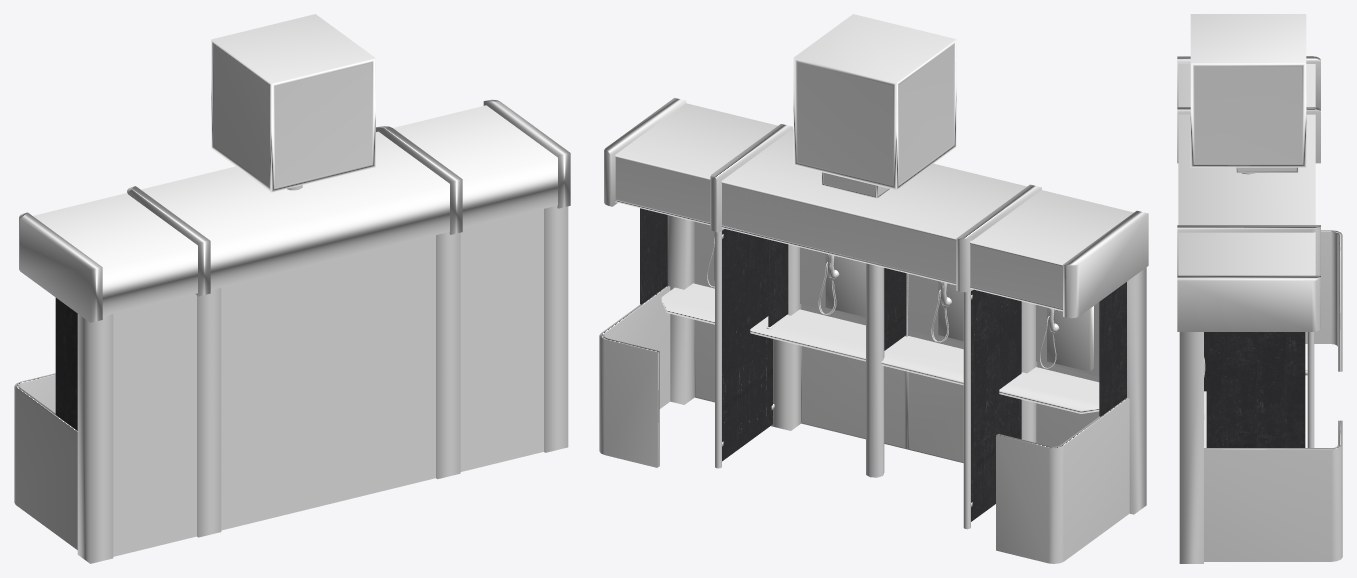
Rendered from telefonzellen.fbx.
The picture shows the model from 3 angles, left to right: view 1: azimuth 30°, elevation 25°; view 2: azimuth 150°, elevation 25°; view 3: azimuth 270°, elevation 25°; orthographic projection. The views are drawn at different scales.
Visible parts, largest first — view 1: telefonzelle_gross, telefonzelle_klein, telefonzelle_schild; view 2: telefonzelle_gross, telefonzelle_klein, telefonzelle_schild; view 3: telefonzelle_gross, telefonzelle_schild, telefonzelle_klein.
Part boxes in pixels (x1,y1,x2,y2): telefonzelle_gross: (14, 99, 570, 563); telefonzelle_klein: (127, 126, 462, 537); telefonzelle_schild: (211, 14, 375, 192); telefonzelle_gross: (599, 98, 1148, 563); telefonzelle_klein: (710, 124, 1041, 529); telefonzelle_schild: (793, 14, 956, 477); telefonzelle_gross: (1177, 56, 1342, 563); telefonzelle_schild: (1190, 14, 1306, 174); telefonzelle_klein: (1177, 107, 1320, 447).
Bounding box in the file's own units: 426 × 365 × 132.
